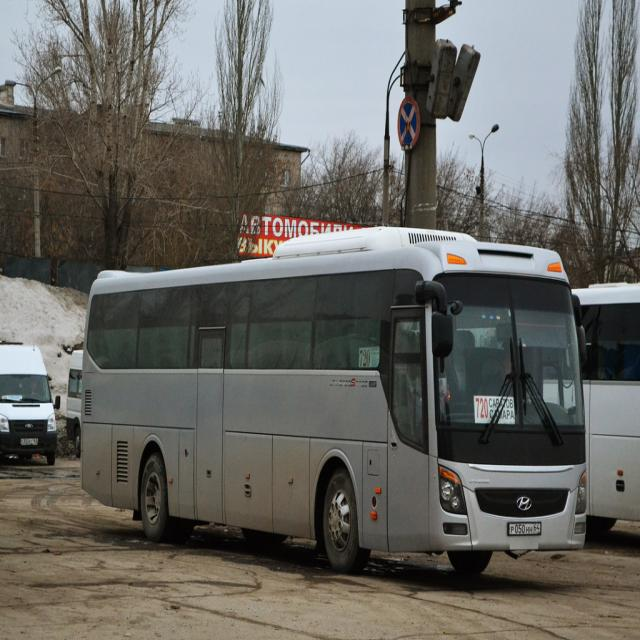number-of-bus: (476, 397, 491, 420), (360, 349, 372, 369)
